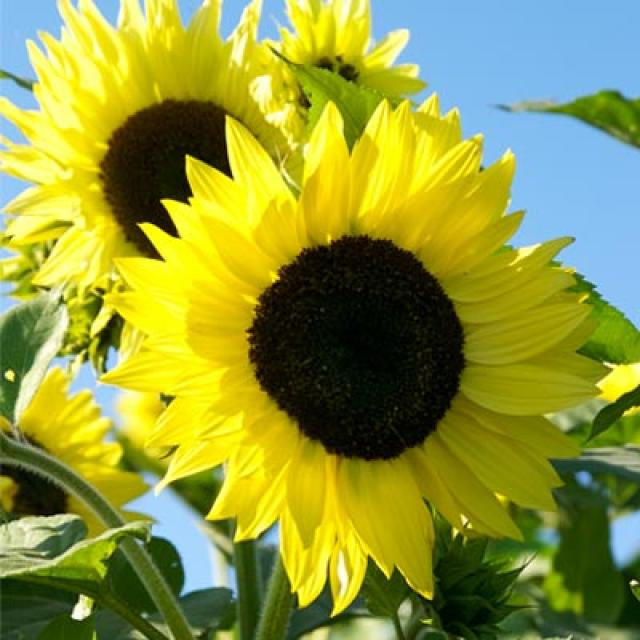sunflower: (122, 87, 609, 596), (0, 2, 365, 352)
